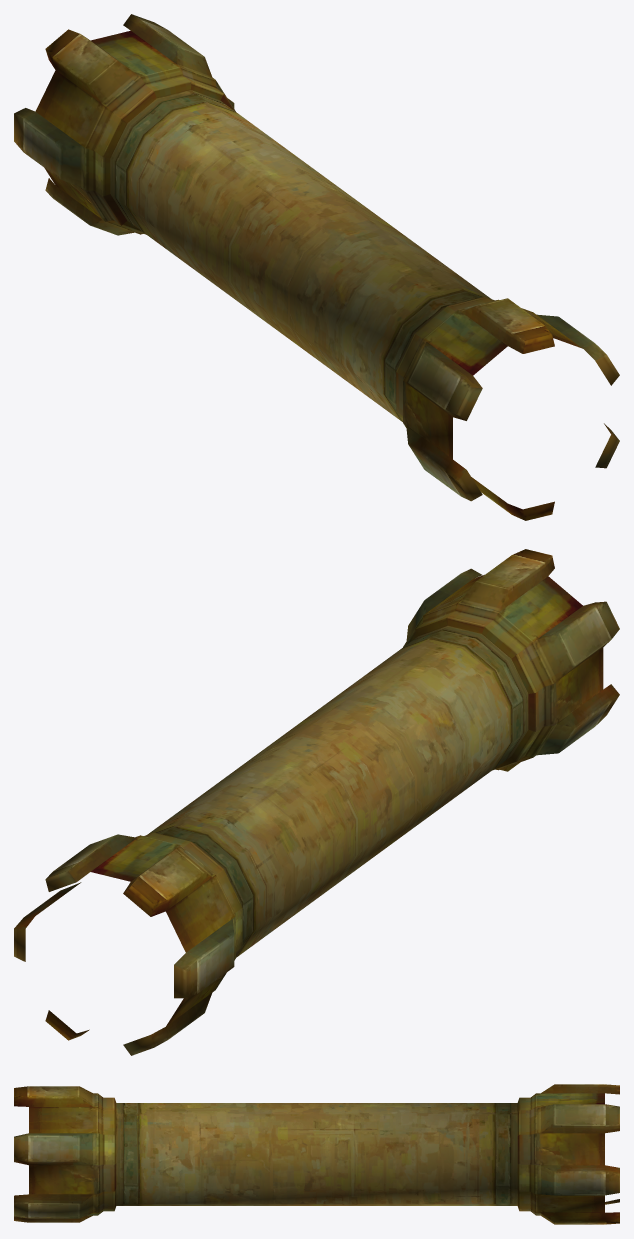
File: hut_item_pipe_long.glb
3 views of the same model, one above another, from view 1: azimuth 30°, elevation 25°; view 2: azimuth 150°, elevation 25°; view 3: azimuth 270°, elevation 25° (orthographic). The views are drawn at different scales.
Parts seen in each view (by area): view 1: hut_item_pipe_long; view 2: hut_item_pipe_long; view 3: hut_item_pipe_long.
Part boxes in pixels (left/top/right/bottom): hut_item_pipe_long: left=14, top=14, right=619, bottom=520; hut_item_pipe_long: left=14, top=549, right=619, bottom=1055; hut_item_pipe_long: left=14, top=1084, right=619, bottom=1224.
Size of the model in its own units: 0.2739 by 0.2739 by 1.2.
Materials: 1 (1 with a texture image).
